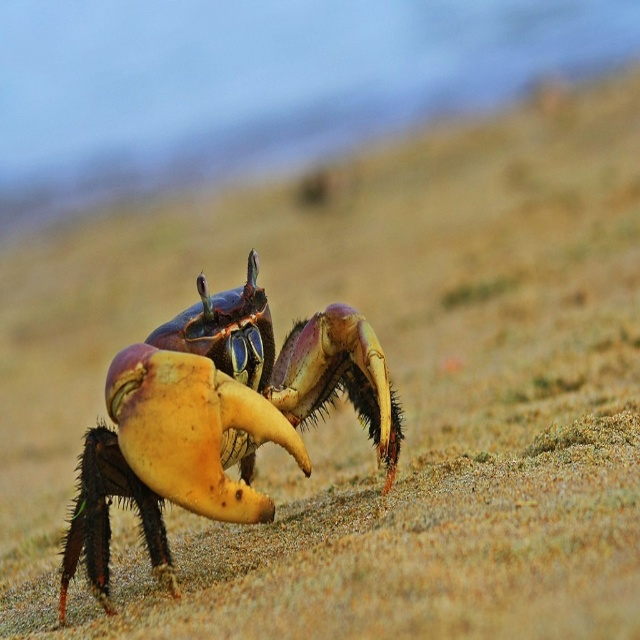Crab: (55, 248, 408, 631)
